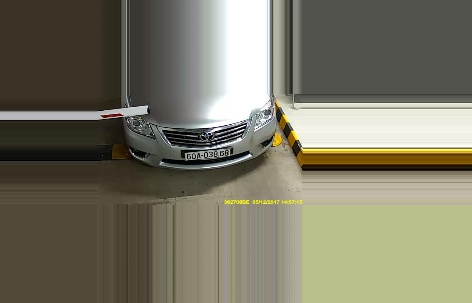plate: (184, 148, 231, 160)
